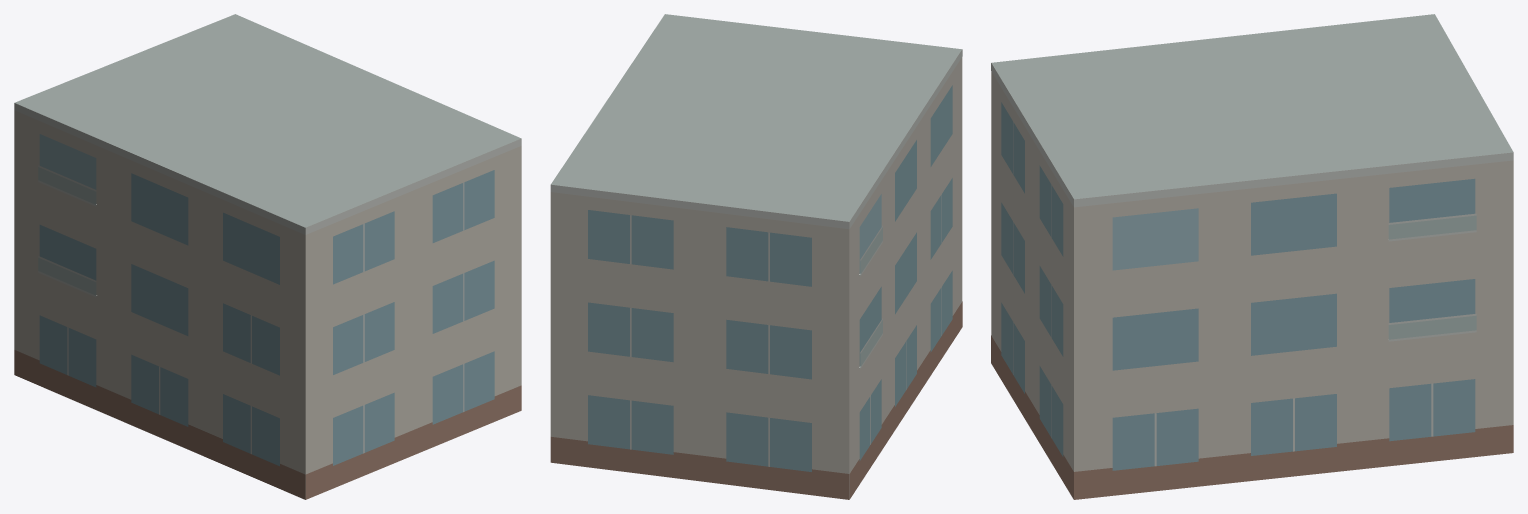
File: survey-upis-32721302.glb
The picture shows the model from 3 angles, left to right: view 1: azimuth 30°, elevation 25°; view 2: azimuth 150°, elevation 25°; view 3: azimuth 270°, elevation 25°; orthographic projection. The views are drawn at different scales.
Visible parts, largest first — view 1: survey-upis-32721302.tmp; view 2: survey-upis-32721302.tmp; view 3: survey-upis-32721302.tmp.
Part boxes in pixels (x1,y1,x2,y2): survey-upis-32721302.tmp: (14, 14, 521, 499); survey-upis-32721302.tmp: (550, 14, 962, 499); survey-upis-32721302.tmp: (991, 14, 1513, 499).
Size of the model in its own units: 12.12 by 9.15 by 14.43.
